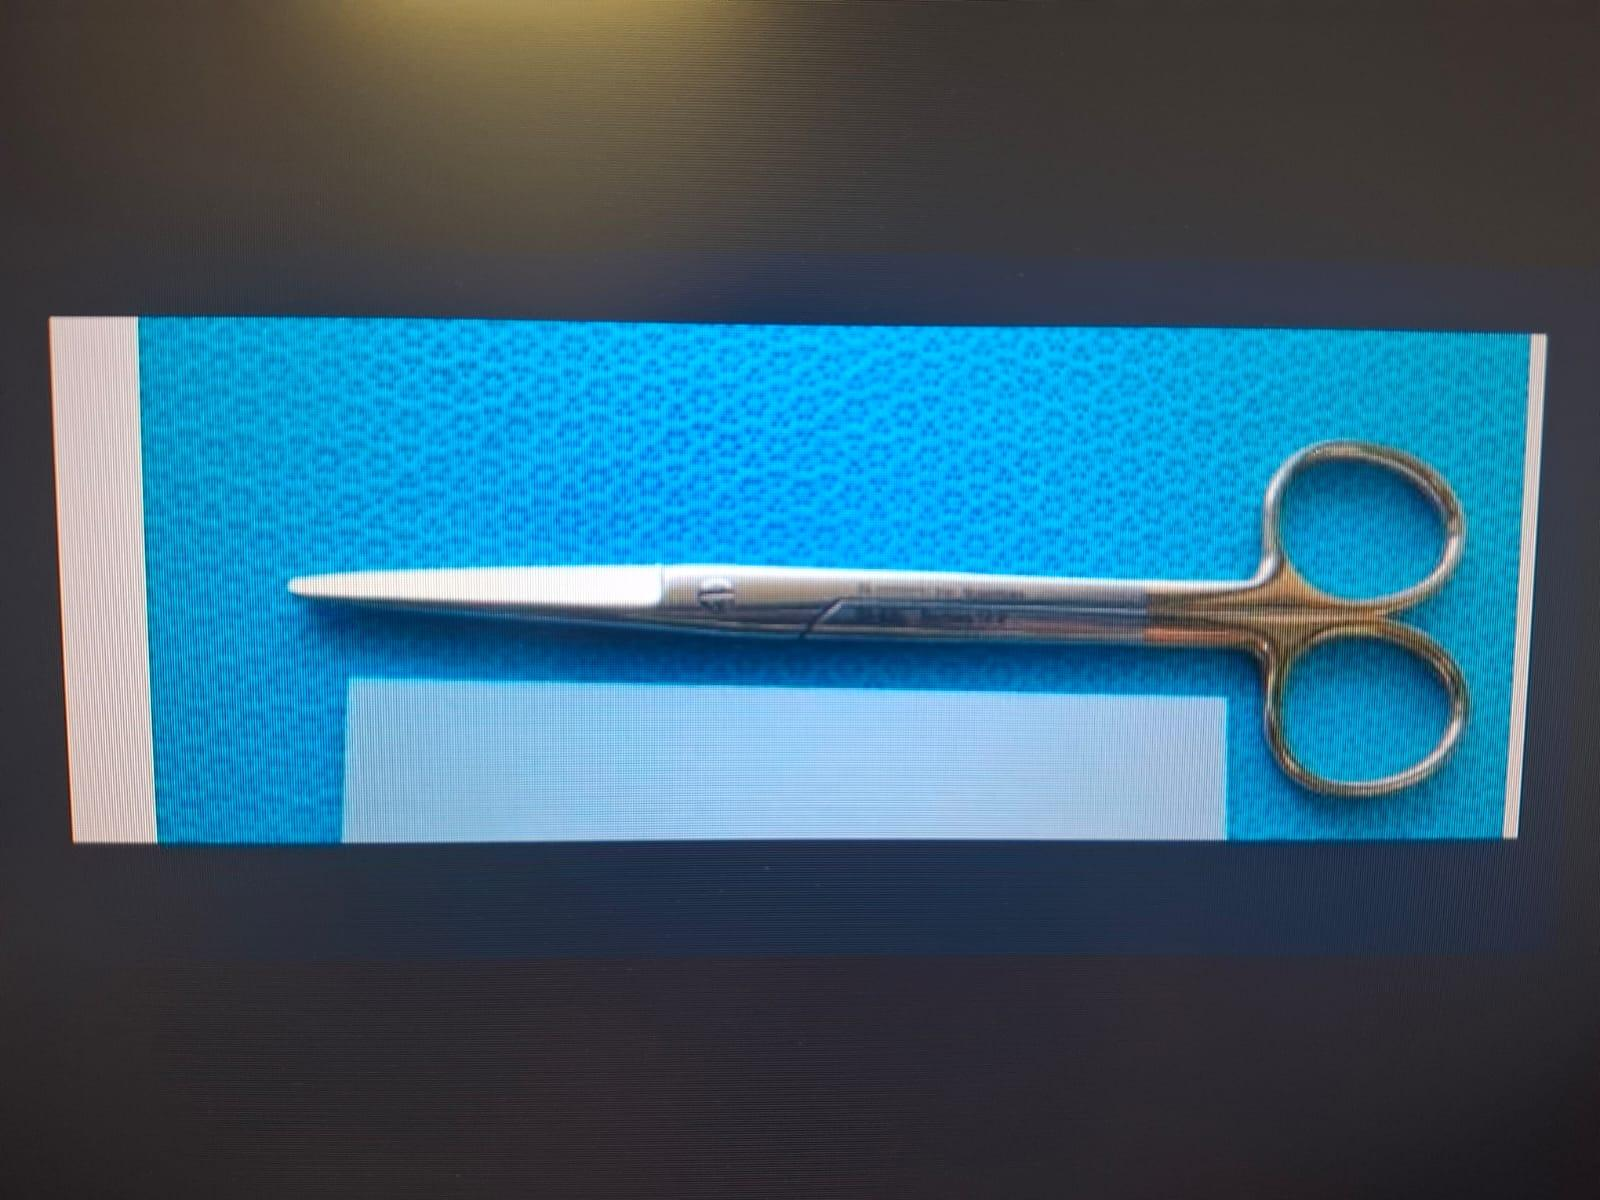Straight Mayo: (282, 440, 1468, 800)
